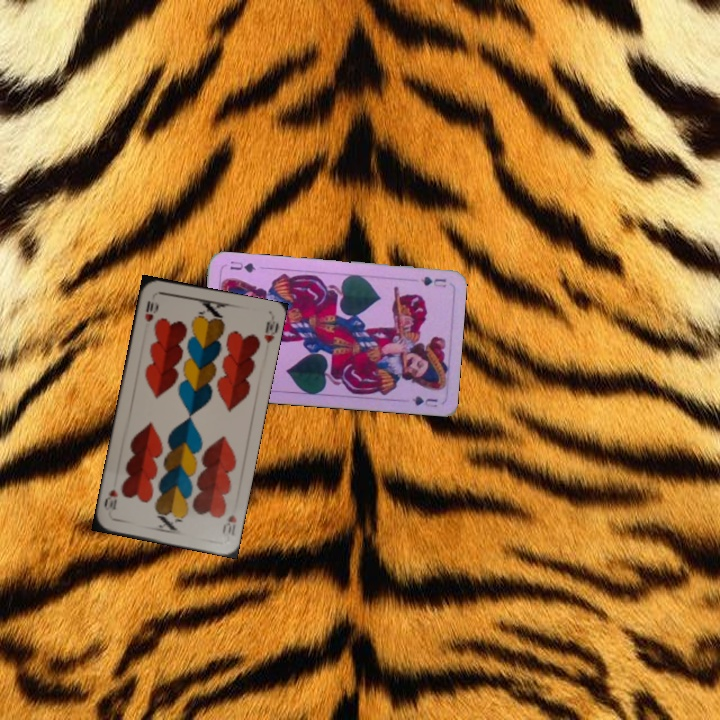GU: (417, 272, 449, 290)
H10: (218, 510, 239, 538), (140, 296, 156, 325)
